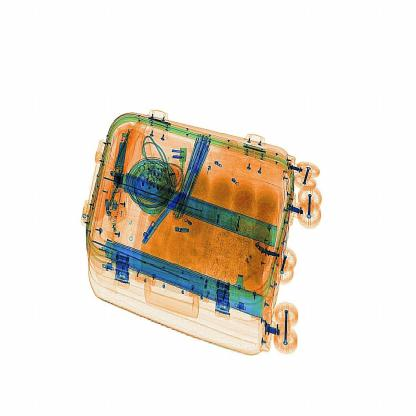pliers: (142, 185, 198, 251)
